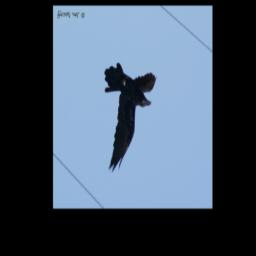Crow: (104, 63, 157, 173)
